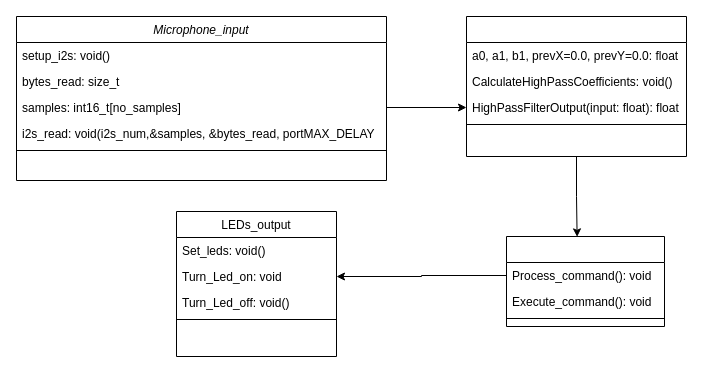
This 703x373 diagram has some shape labels left out. The box of each missing label's shape, as (x1, y1, x2, y2) in pixels:
AI_command_detector: (506, 236, 664, 326)
Sound_filter: (466, 16, 686, 156)
